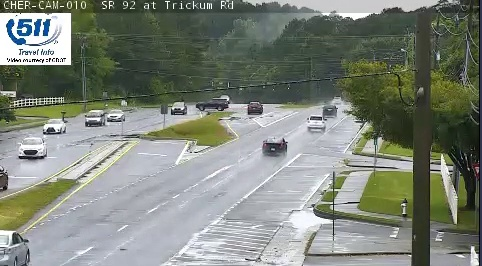car: (262, 137, 286, 156), (307, 115, 326, 130), (322, 105, 337, 116)
